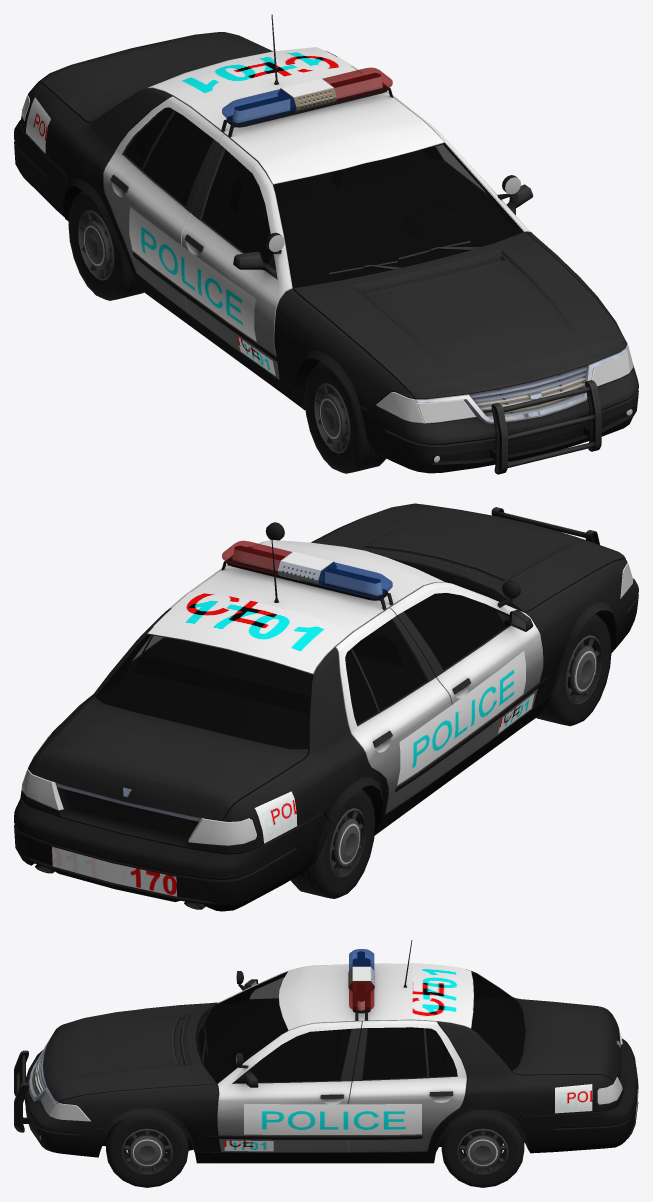
File: policesedan.fbx
3 renders of one model, top to bottom at view 1: azimuth 30°, elevation 25°; view 2: azimuth 150°, elevation 25°; view 3: azimuth 270°, elevation 25°, orthographic. The views are drawn at different scales.
Visible parts, largest first — view 1: police_sedan, police_wheelFR, police_wheelRR; view 2: police_sedan, police_wheelRR, police_wheelFR; view 3: police_sedan, police_wheelFL, police_wheelRL.
Boxes of the visible parts, x1,y1,x2,y2 form: police_sedan: (14, 14, 638, 474); police_wheelFR: (304, 361, 386, 473); police_wheelRR: (68, 190, 143, 300); police_sedan: (14, 503, 638, 911); police_wheelRR: (290, 789, 375, 898); police_wheelFR: (536, 614, 611, 726); police_sedan: (14, 940, 638, 1163); police_wheelFL: (106, 1114, 188, 1187); police_wheelRL: (441, 1116, 524, 1187).
Bounding box in the file's own units: 2089 × 1963 × 5406.
